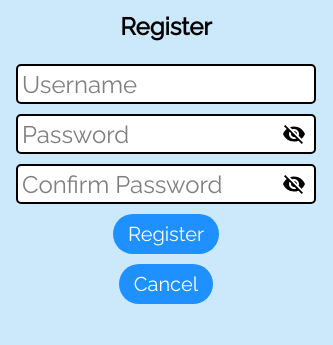
Scenario: Register component › does not register if passwords do not match
Type "testuser" into the field with test id "registerUsernameInput" at (166, 84), box [16,64,316,104]
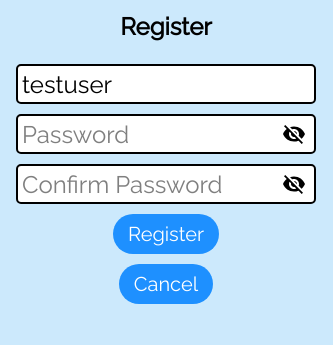
Type "testpassword" into the password field with test id "passwordInput-password" at (166, 134), box [16,114,316,154]
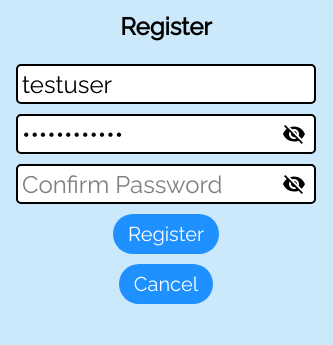
Type "nottestpassword" into the password field with test id "passwordInput-confirmPassword" at (166, 184), box [16,164,316,204]
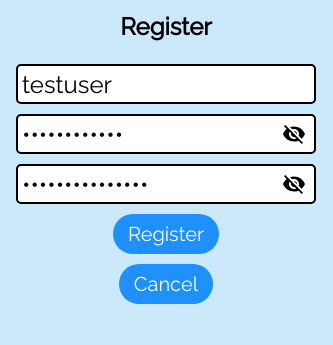
Click the button with test id "registerSubmit" at (166, 234), box [113,214,219,254]
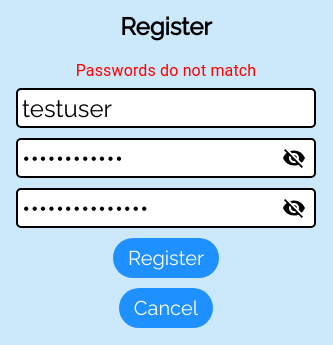
Result: the text "Passwords do not match" is shown at [76,61,256,80]
